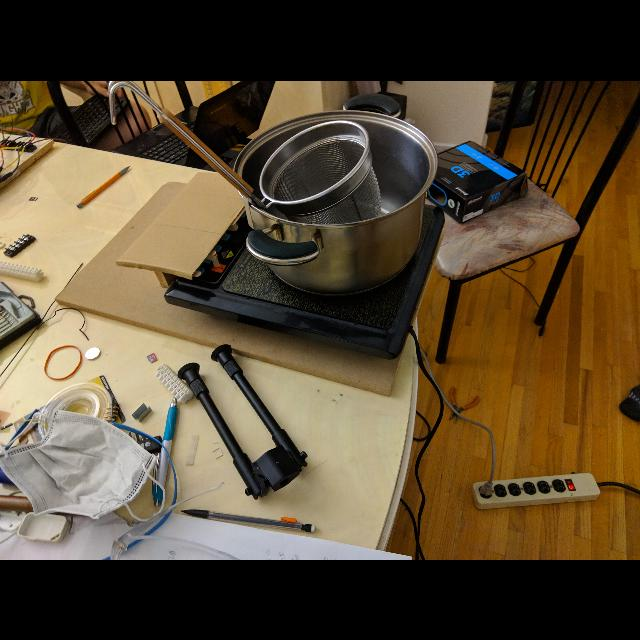Handle: (106, 80, 256, 202)
Strainer: (262, 120, 366, 202)
